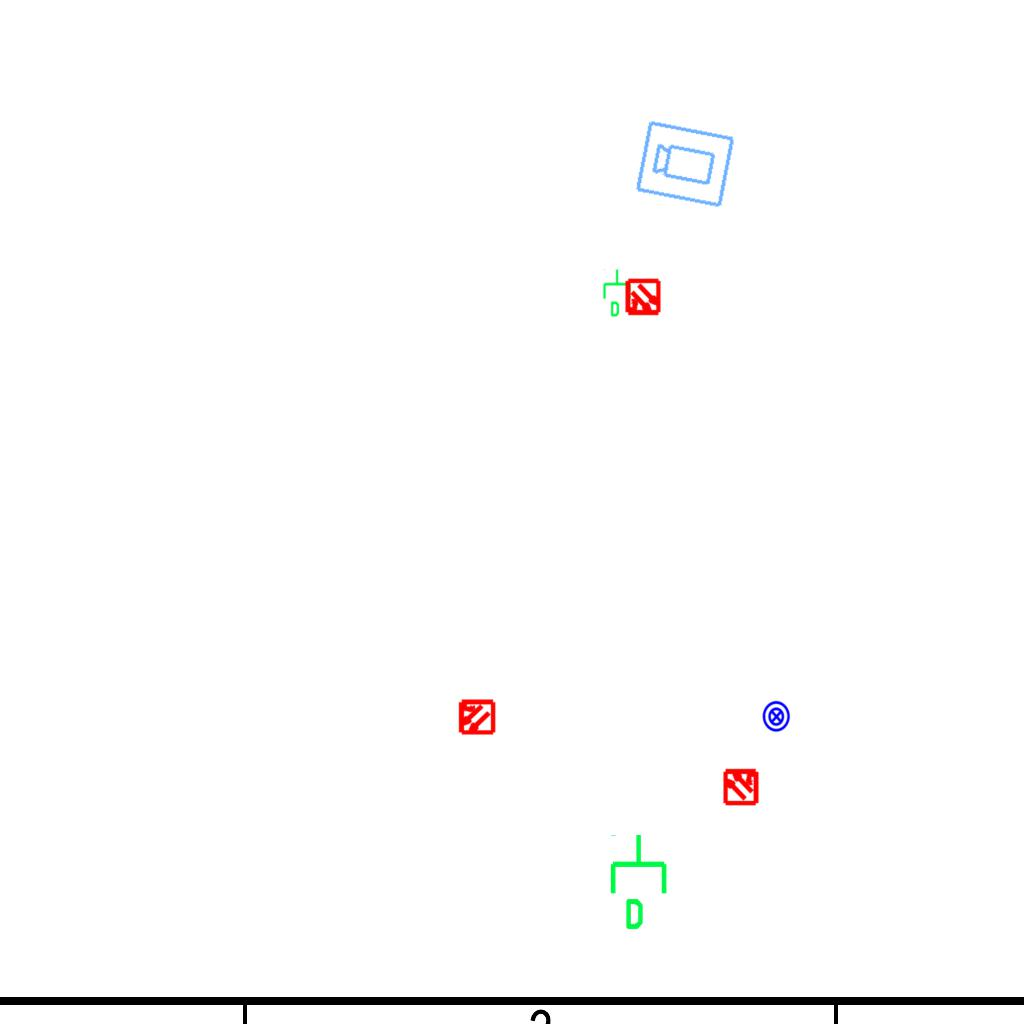Datenanschluss_einfach: (606, 832, 675, 932), (601, 268, 635, 318)
KFO_Kamera_mit_Festobjektiv: (633, 117, 738, 210)
OT_Multisensormelder_(Kombination_RMO_WMD): (713, 758, 769, 814), (448, 689, 504, 745), (615, 270, 671, 326)
Taster_beleuchtet: (760, 700, 793, 733)
